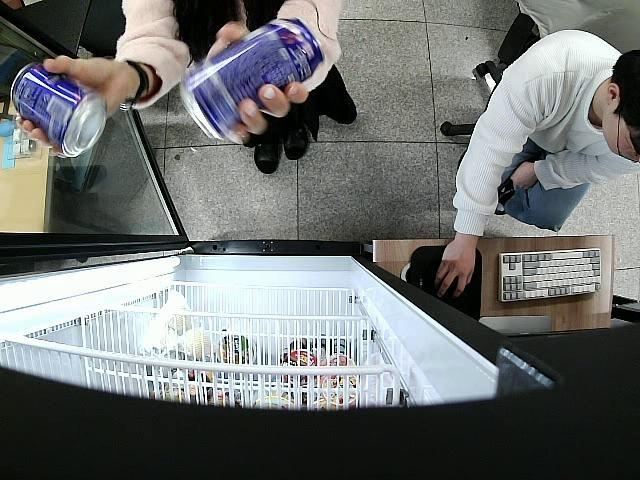14_welchsGrape: (179, 16, 324, 143), (8, 63, 108, 158)
